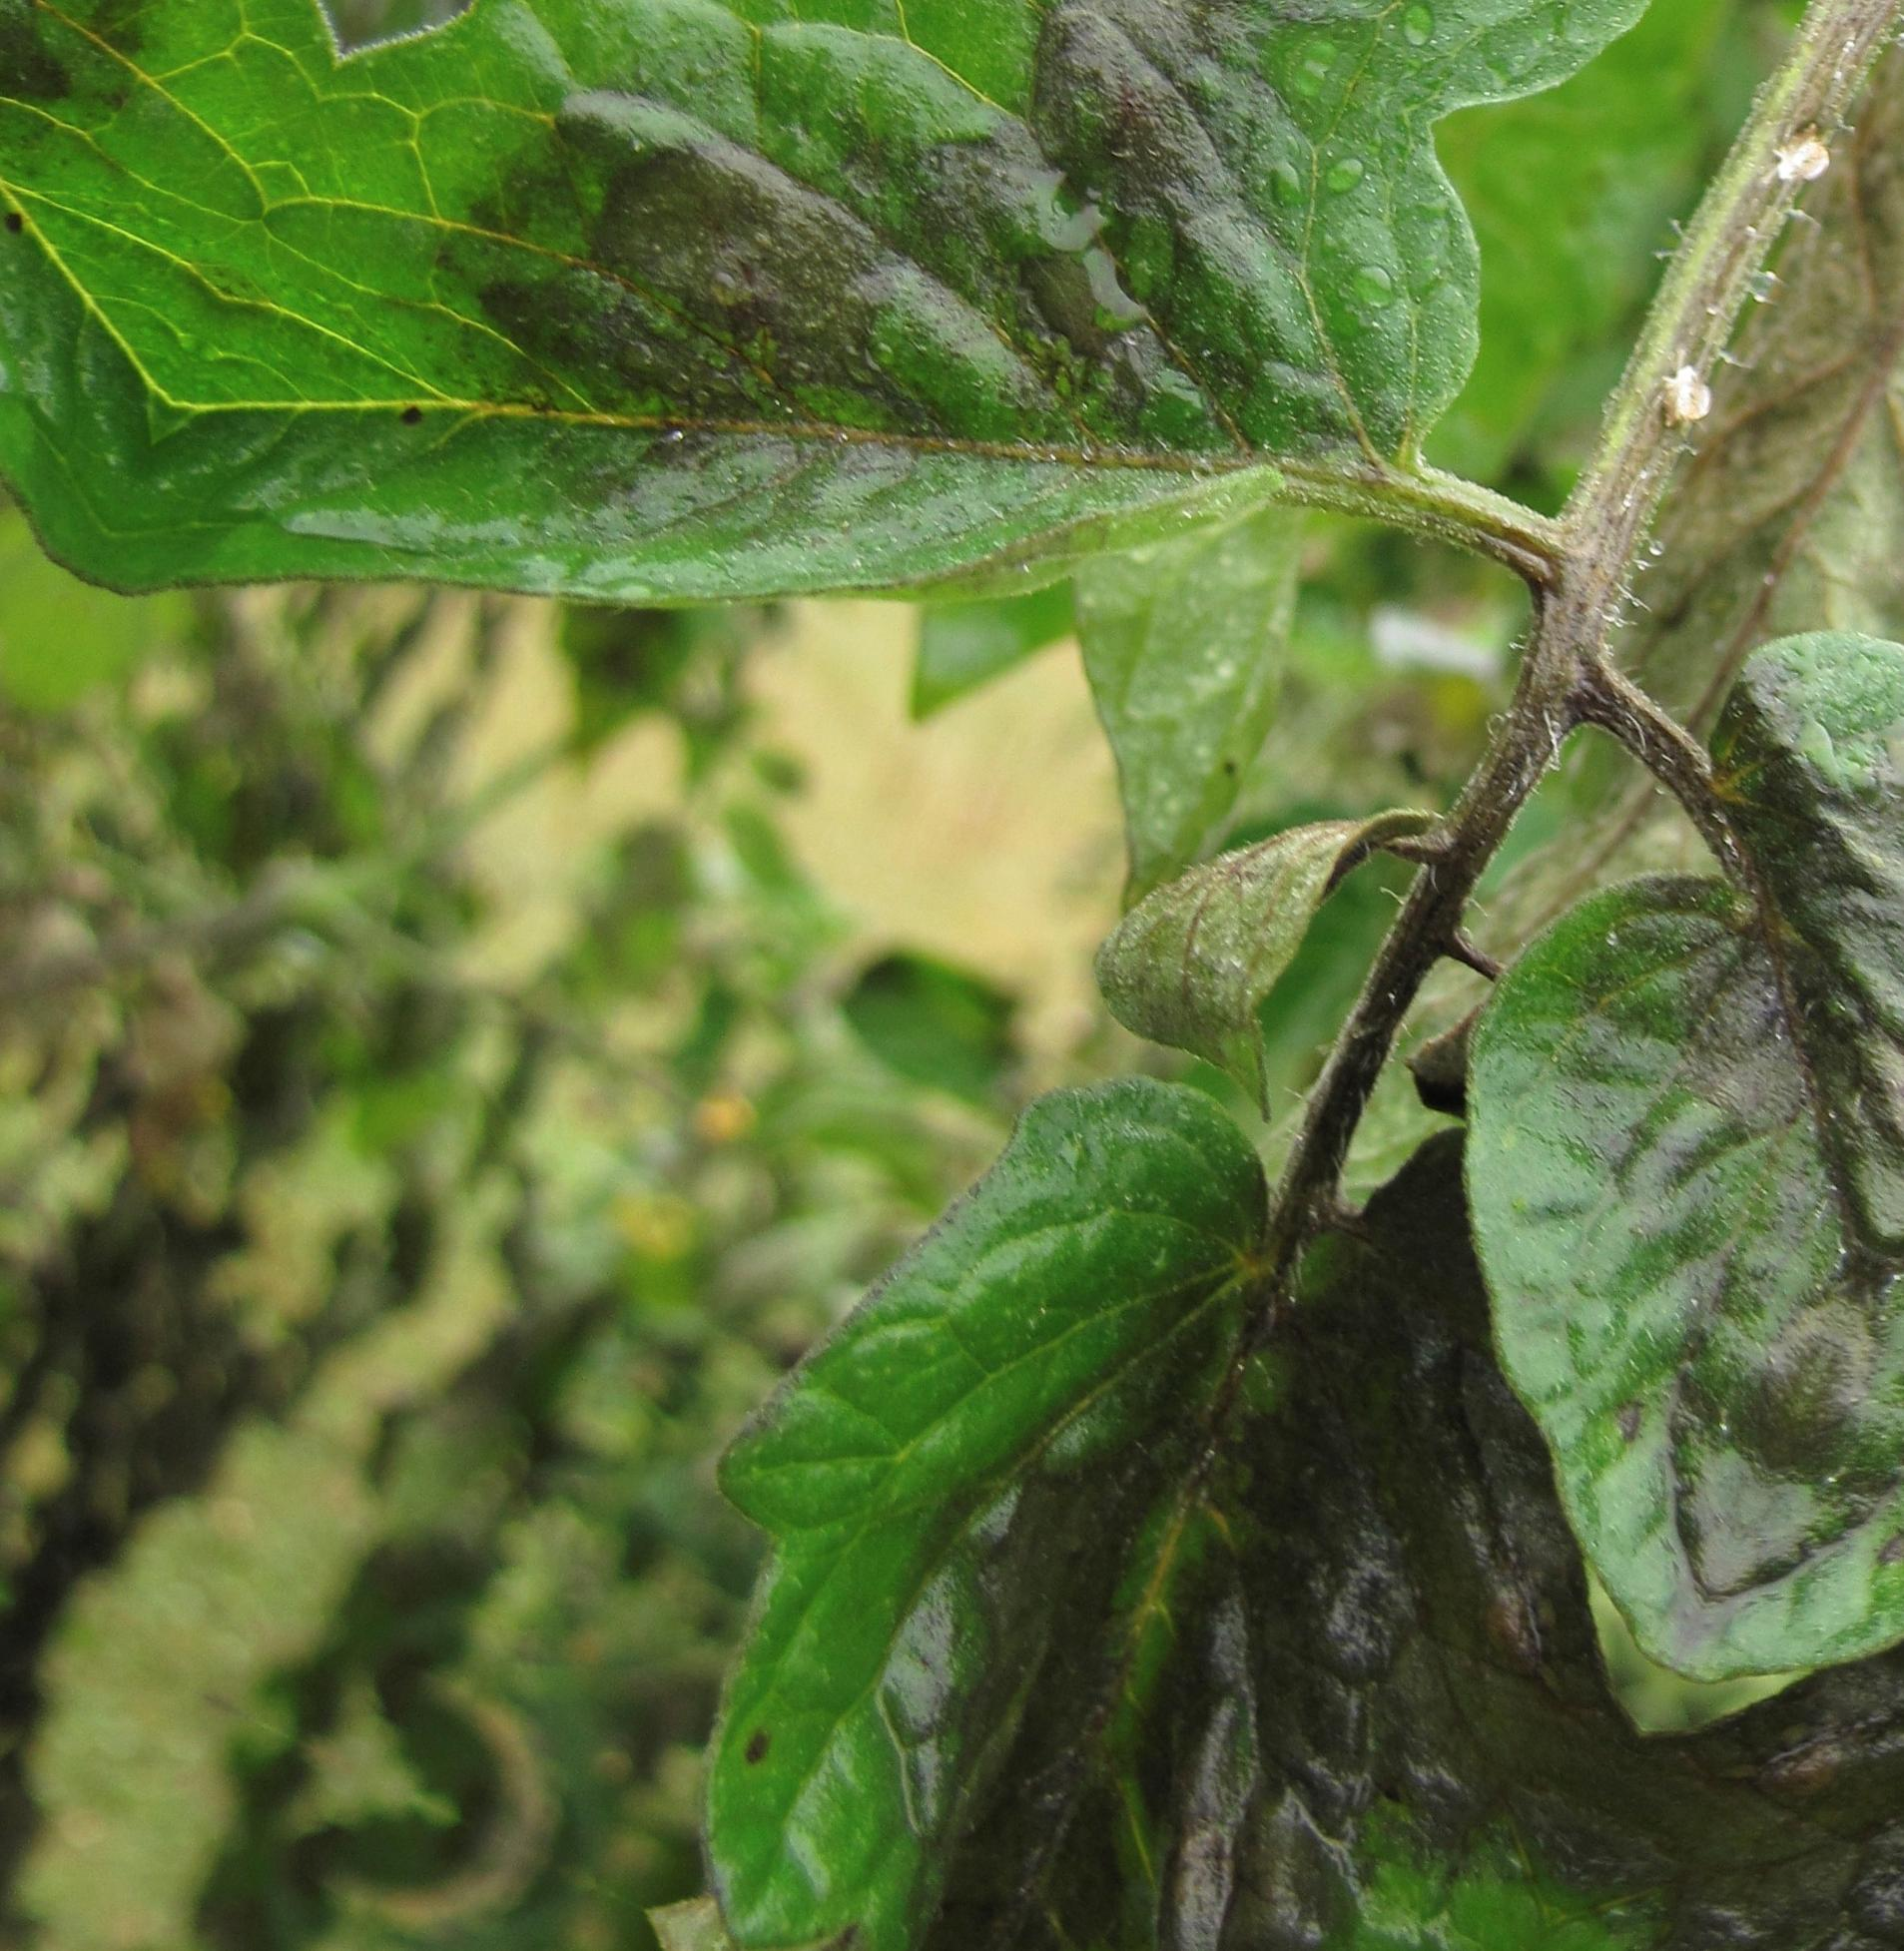Tomato leaf late blight: (77, 0, 1567, 1105), (486, 908, 1831, 1951), (1057, 551, 1904, 1951)
